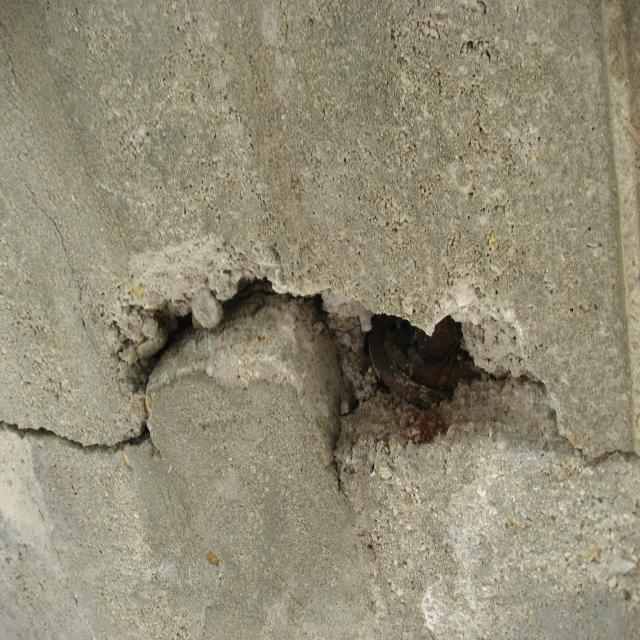corrosion: (366, 288, 486, 453)
